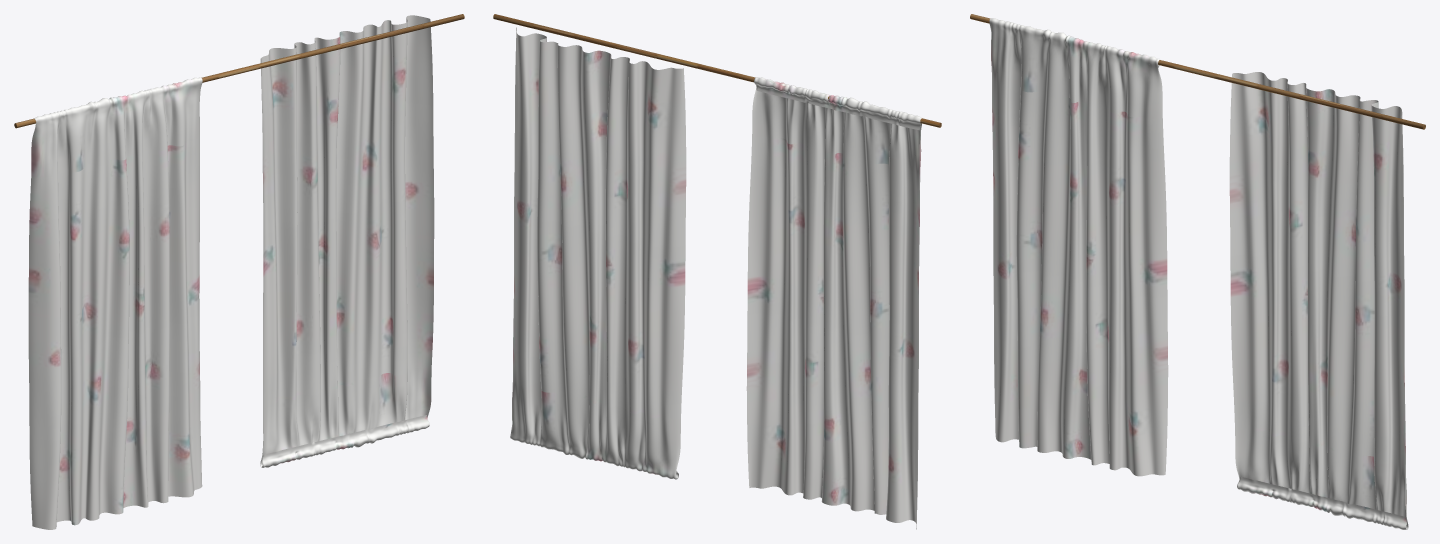
File: curtain.FBX
3 views of the same model, side by side, from view 1: azimuth 30°, elevation 25°; view 2: azimuth 150°, elevation 25°; view 3: azimuth 330°, elevation 25° (orthographic).
Visible parts, largest first — view 1: Arch60_024_obj02, Arch60_024_obj00, Arch60_024_obj01; view 2: Arch60_024_obj00, Arch60_024_obj02, Arch60_024_obj01; view 3: Arch60_024_obj02, Arch60_024_obj00, Arch60_024_obj01.
Part boxes in pixels (x1,y1,x2,y2): Arch60_024_obj02: (28, 77, 202, 529); Arch60_024_obj00: (260, 15, 434, 467); Arch60_024_obj01: (14, 14, 464, 128); Arch60_024_obj00: (510, 27, 686, 479); Arch60_024_obj02: (746, 77, 922, 529); Arch60_024_obj01: (493, 14, 941, 127); Arch60_024_obj02: (989, 18, 1168, 476); Arch60_024_obj00: (1229, 72, 1408, 529); Arch60_024_obj01: (970, 14, 1425, 129).
Bounding box in the file's own units: 262 × 234 × 23.39.
